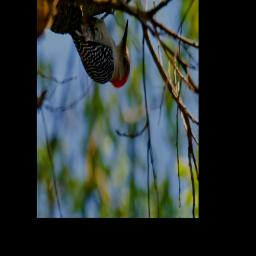Woodpecker: (63, 0, 134, 109)
